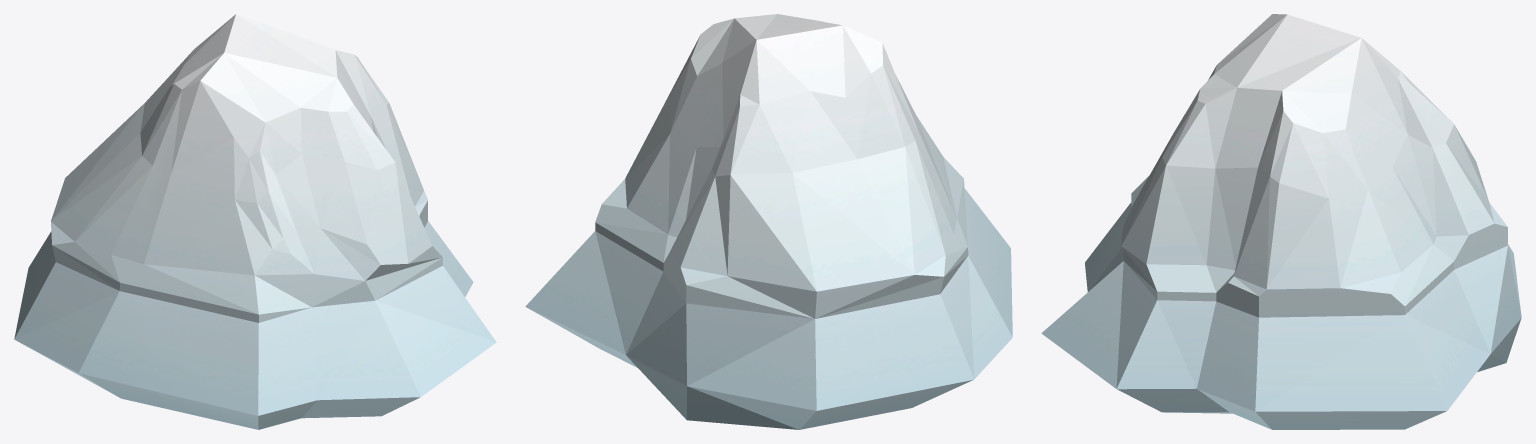
3 views of the same model, side by side, from view 1: azimuth 30°, elevation 25°; view 2: azimuth 150°, elevation 25°; view 3: azimuth 270°, elevation 25° (orthographic). The views are drawn at different scales.
Visible parts, largest first — view 1: IceBerg; view 2: IceBerg; view 3: IceBerg.
Part boxes in pixels (bbox=[...]): IceBerg: bbox=[14, 14, 496, 429]; IceBerg: bbox=[525, 14, 1012, 429]; IceBerg: bbox=[1041, 14, 1521, 429].
Size of the model in its own units: 20.11 by 17.66 by 20.32.
Materials: 1 (1 with a texture image).
